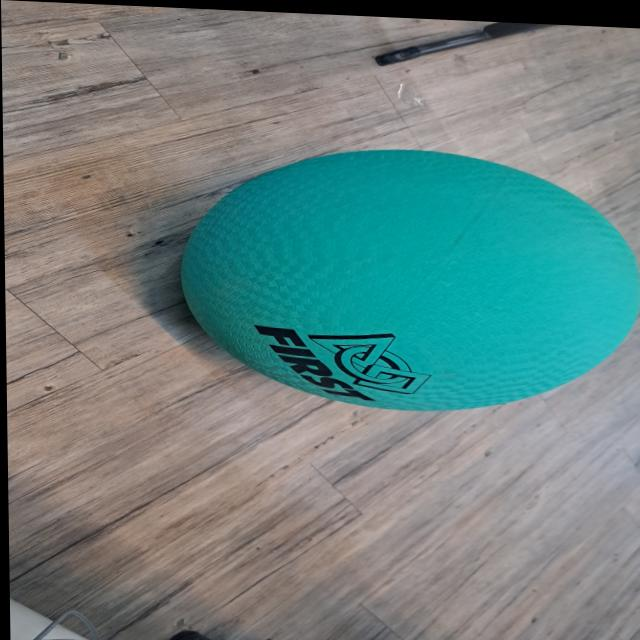ALGAE: (175, 138, 640, 422)
